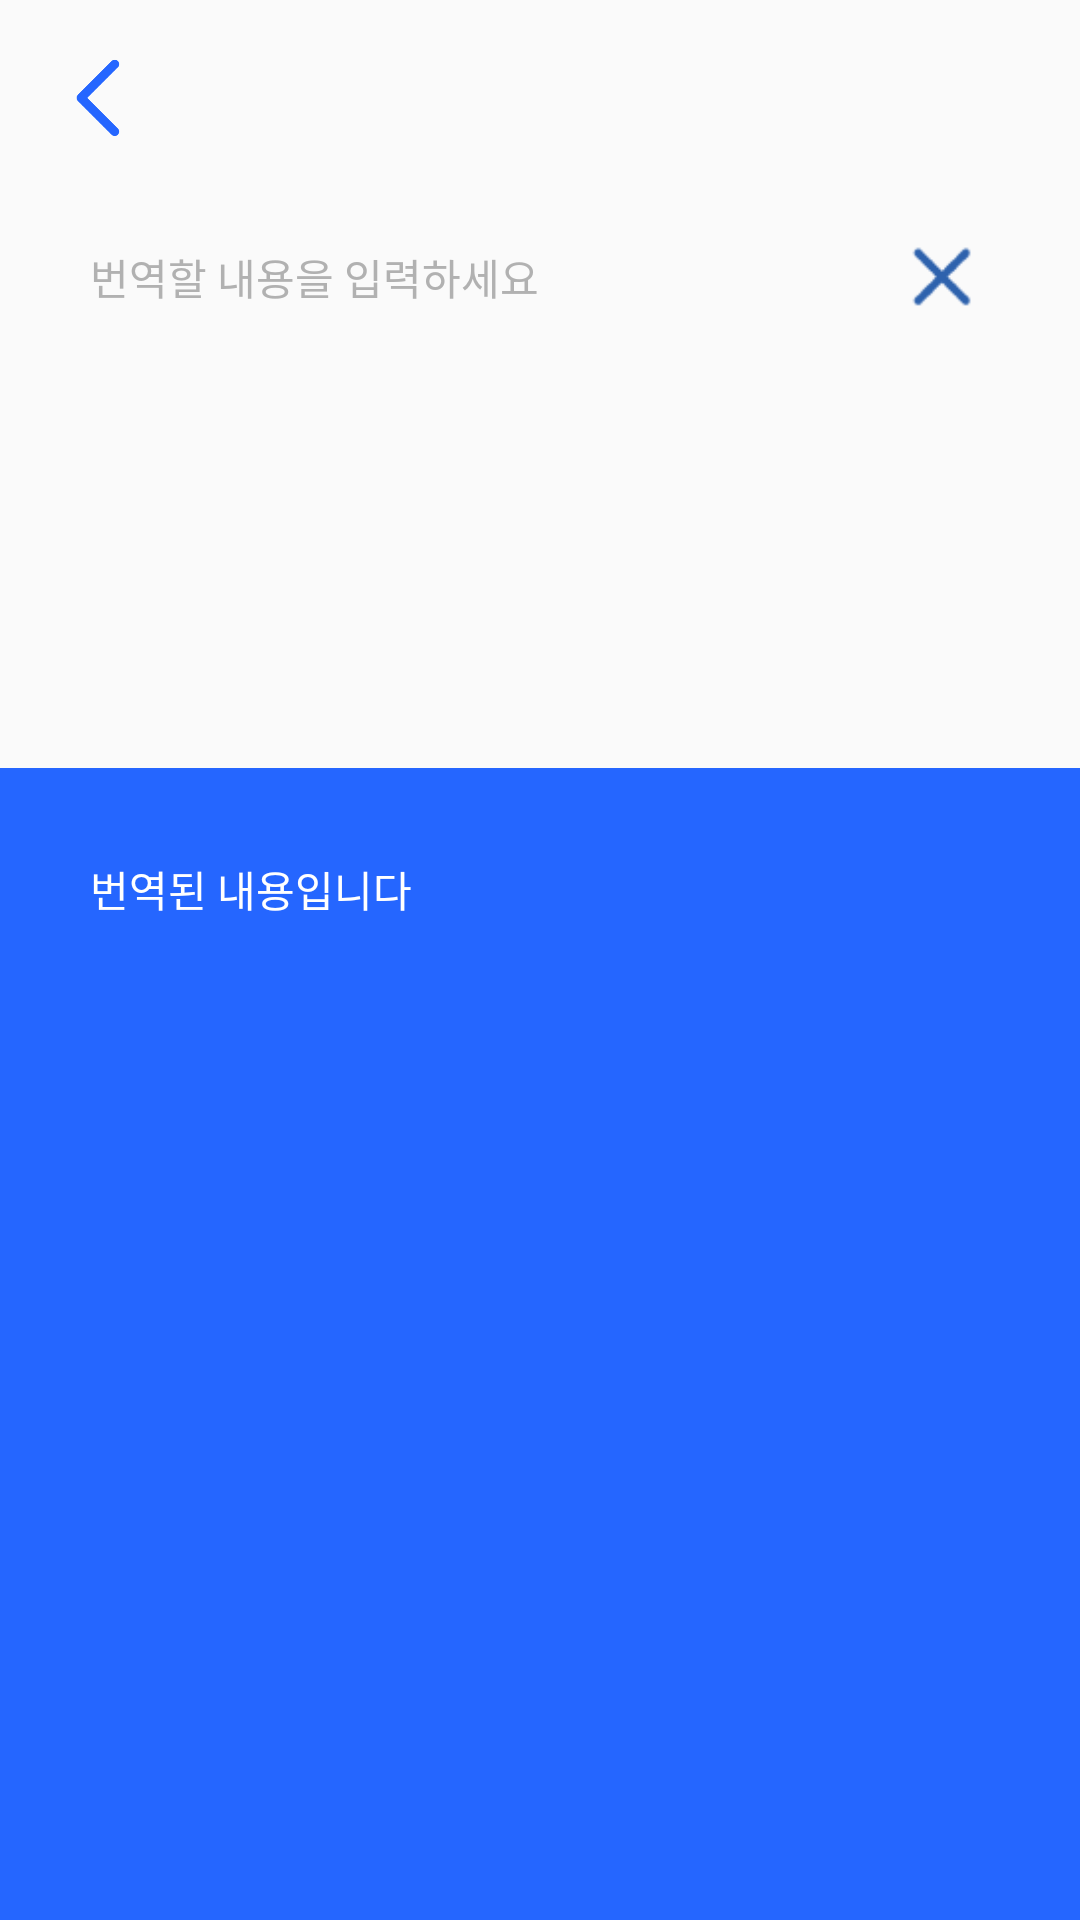

Where icons sit on this 1080*1920 app screen, as (x1, y1, x2, y2):
back: (76, 60, 119, 136)
